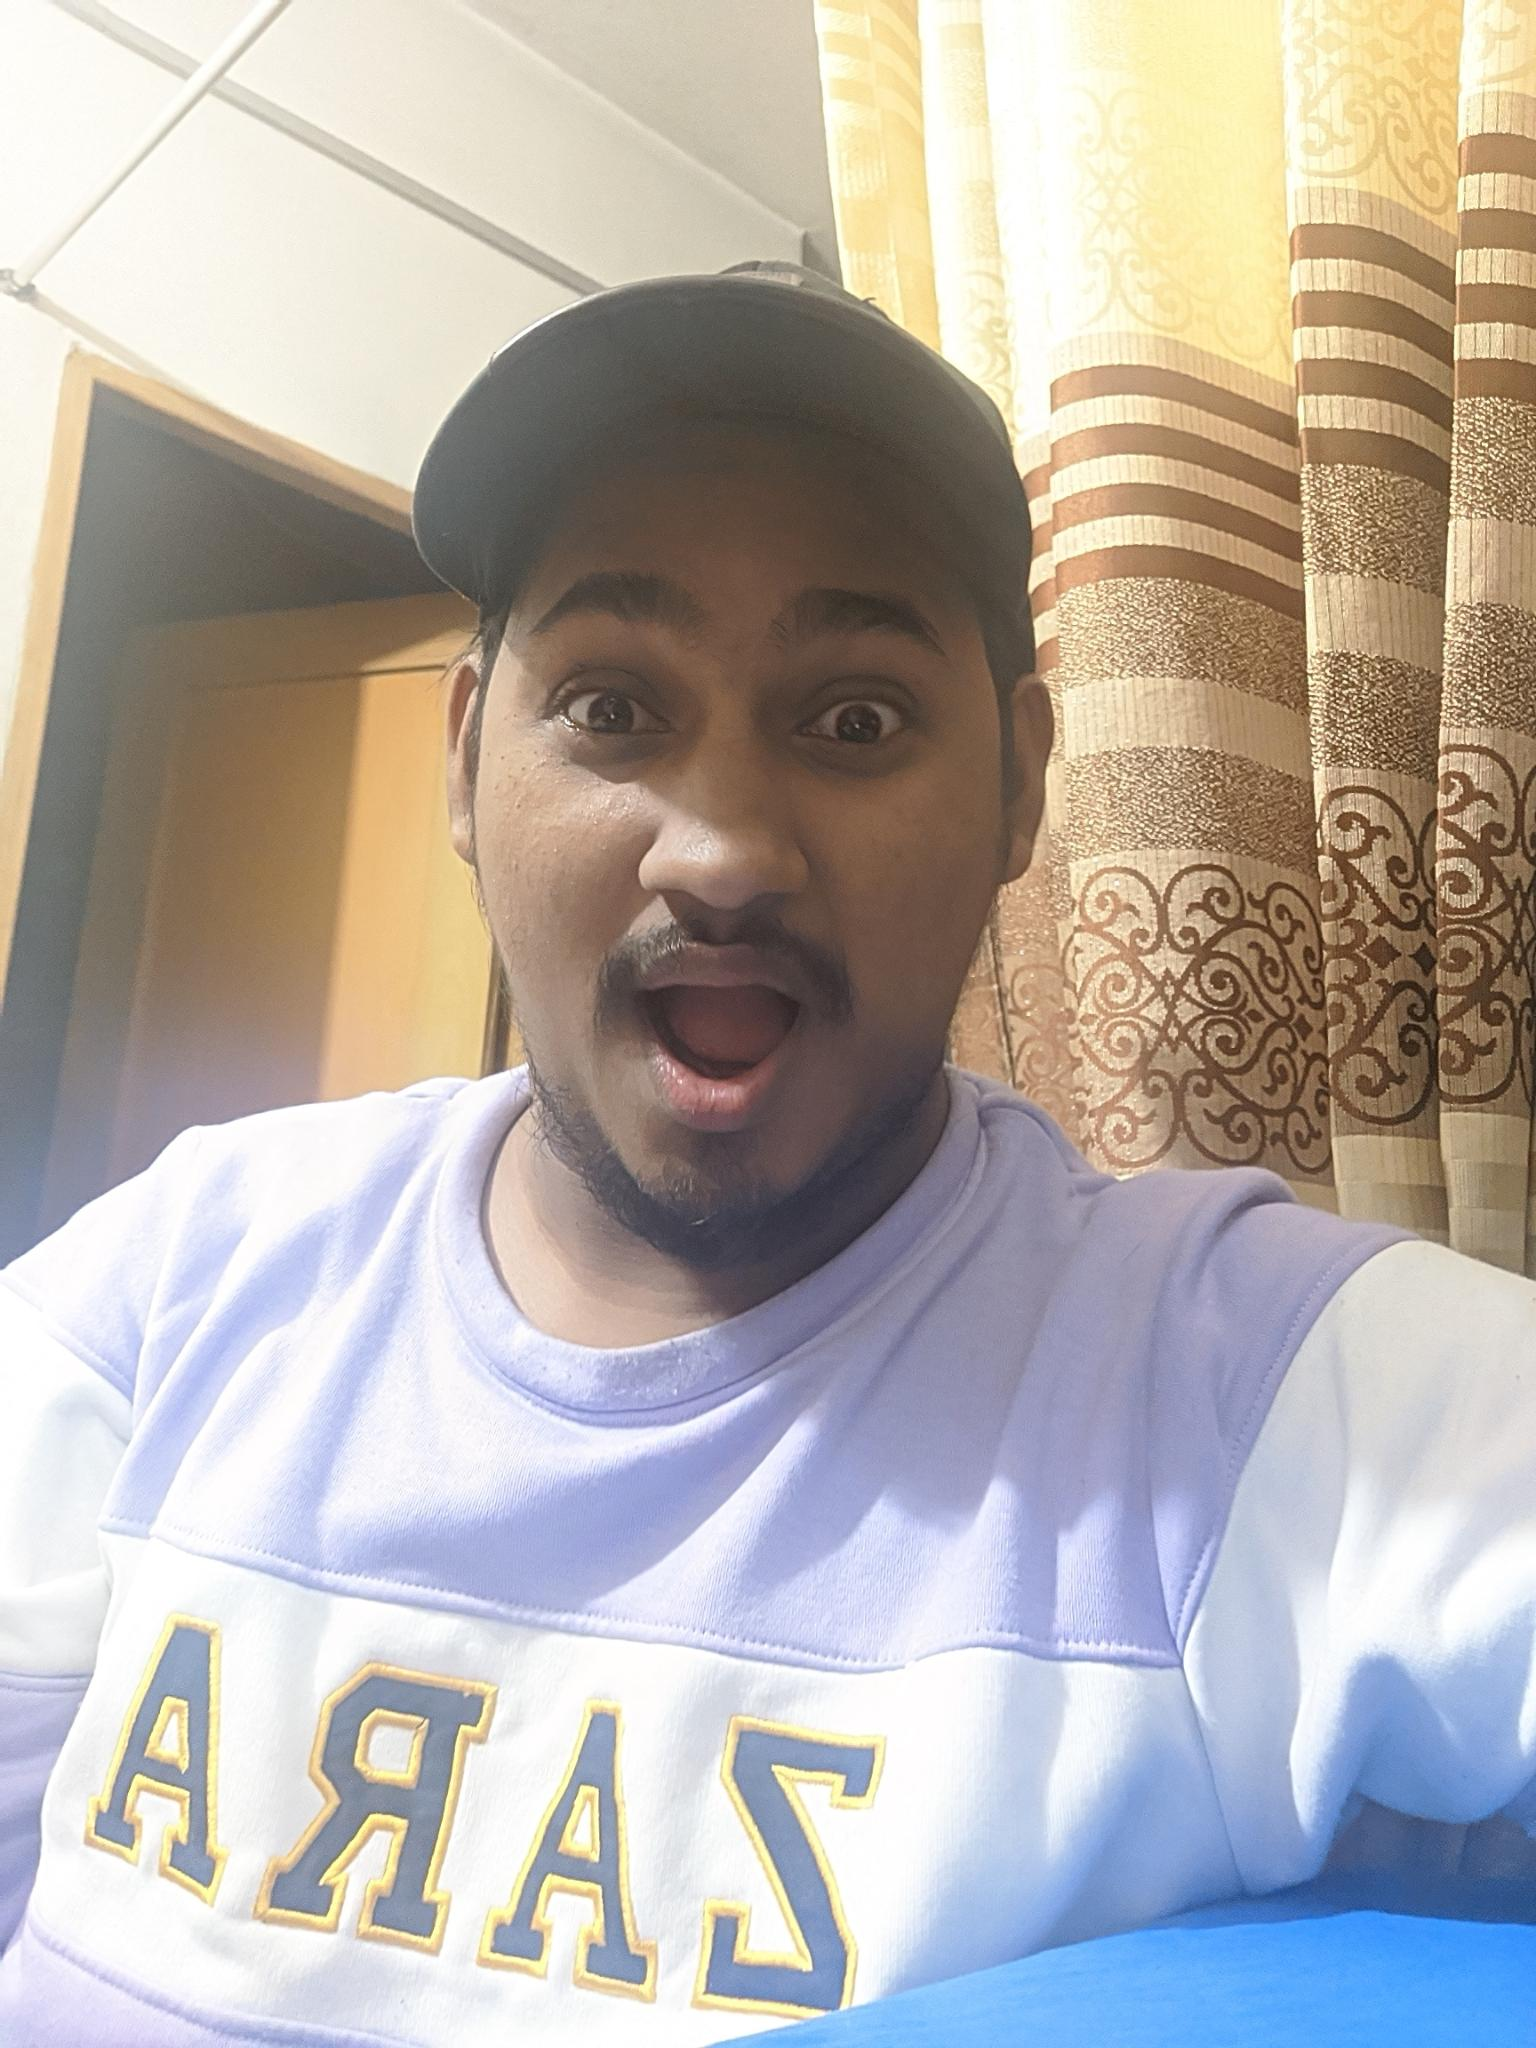Surprise: (453, 495, 1029, 1243)
